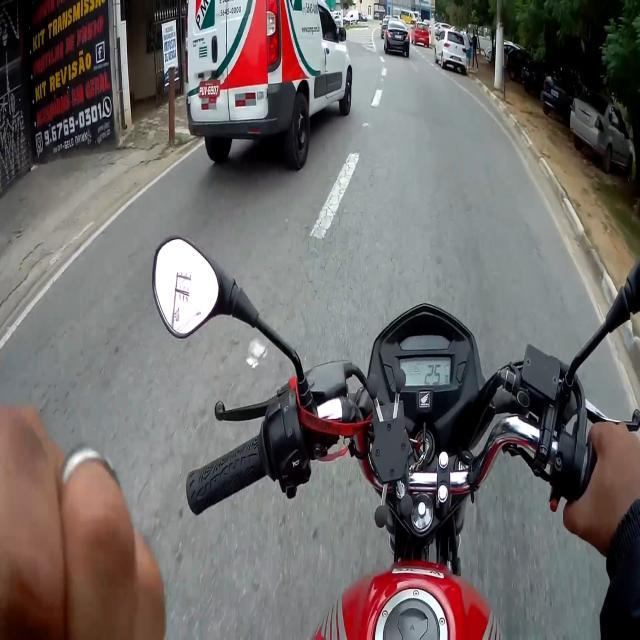Placa_mercosul_carro: (199, 79, 221, 98), (551, 89, 559, 98), (395, 35, 402, 39)
